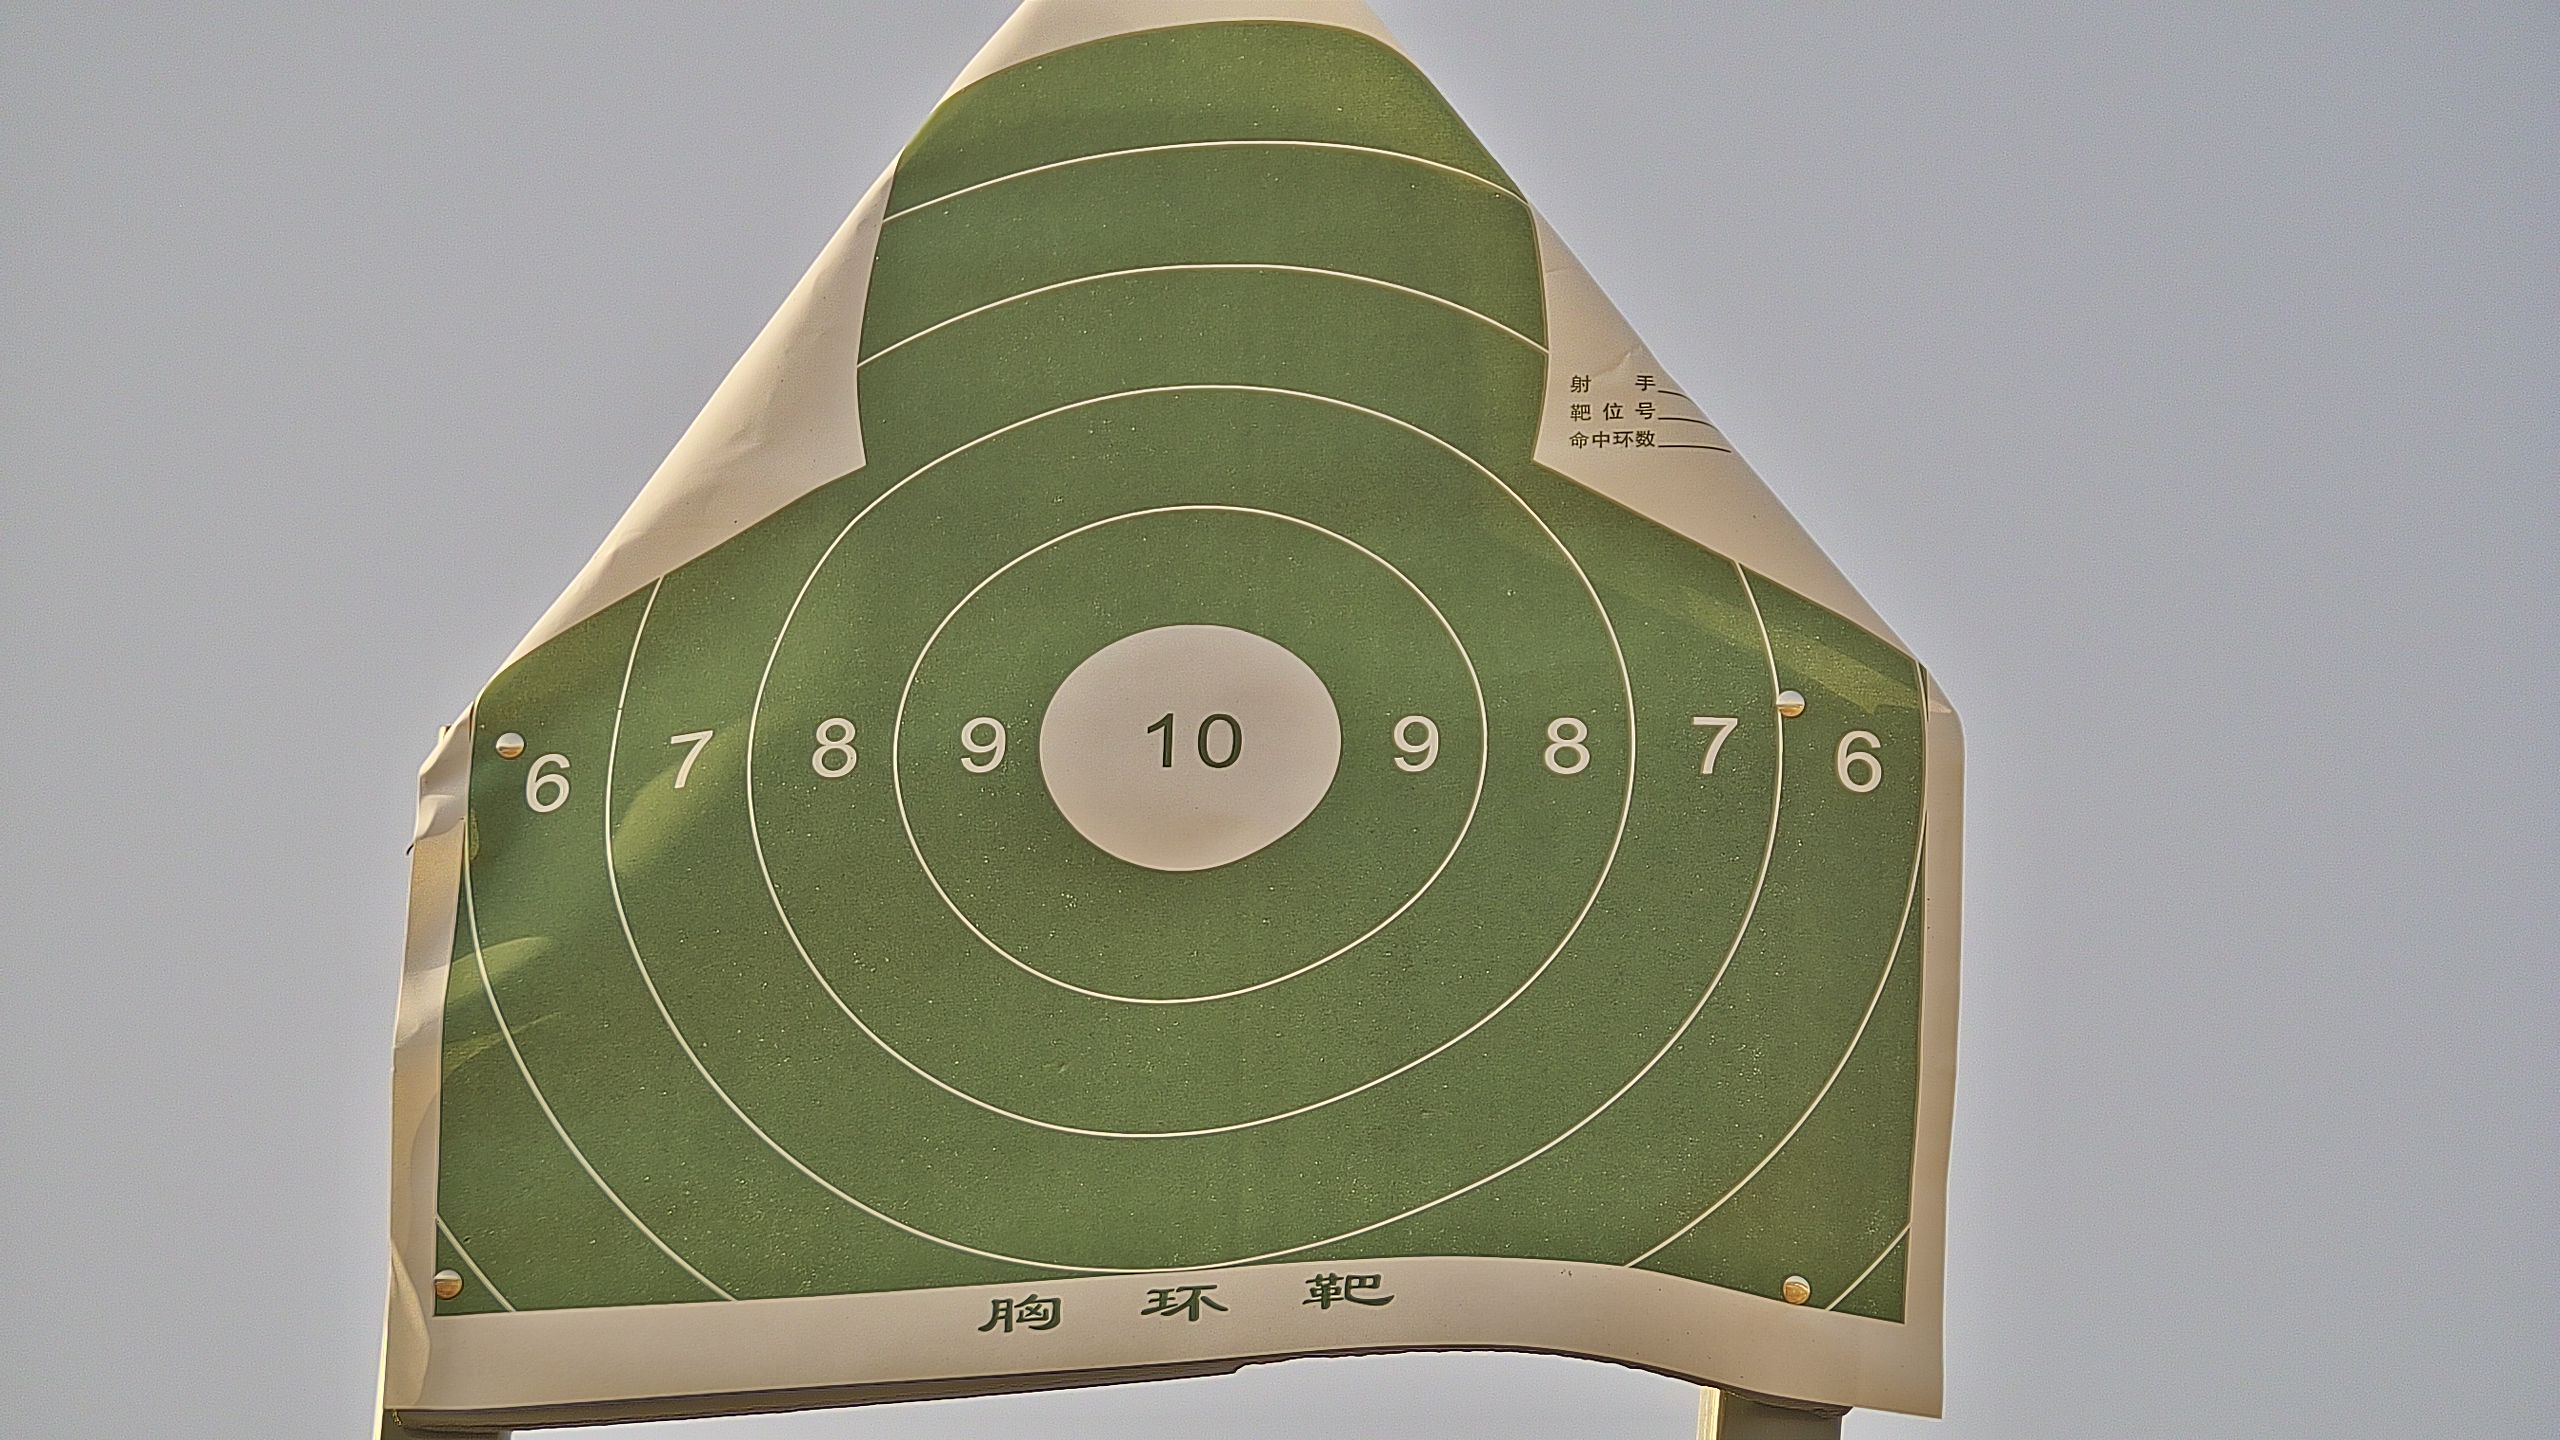kernel: (1183, 744, 1189, 745)
target: (429, 26, 1927, 1349)
ten: (1039, 622, 1347, 874)
